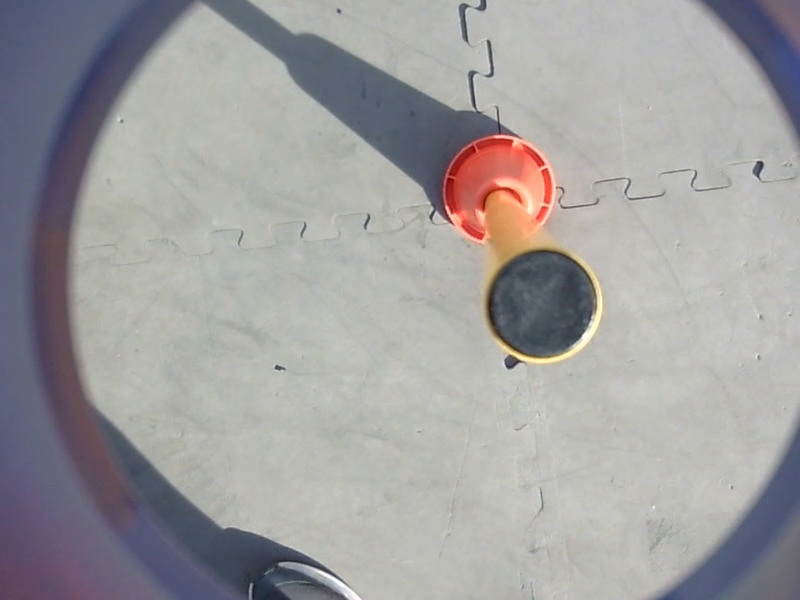tip: (479, 242, 607, 370)
